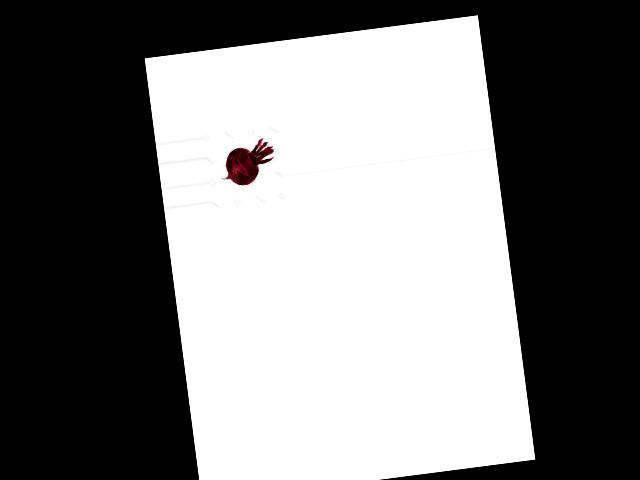beet: (216, 137, 277, 188)
